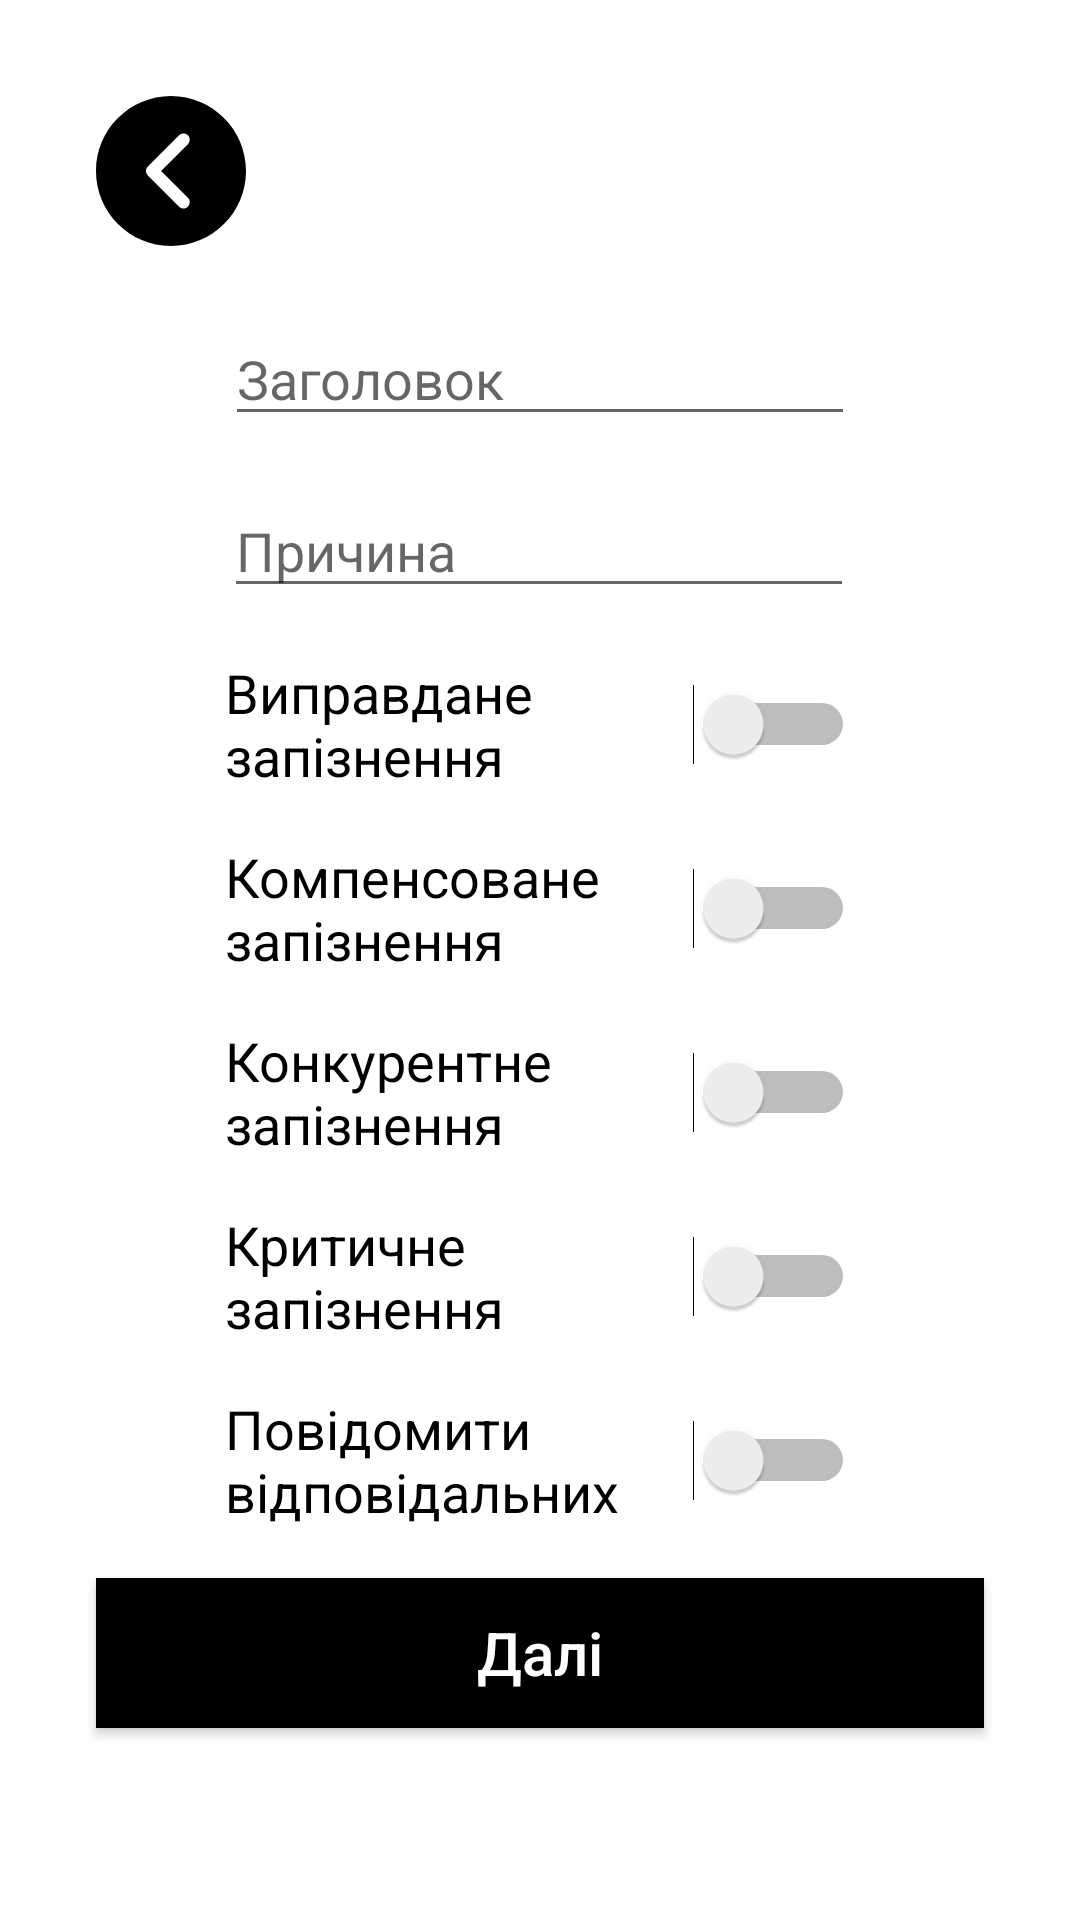

Named icons in this screenshot (1080w x 1920h) and their bounding boxes, (x1, y1, x2, y2):
left arrow: (96, 96, 246, 246)
